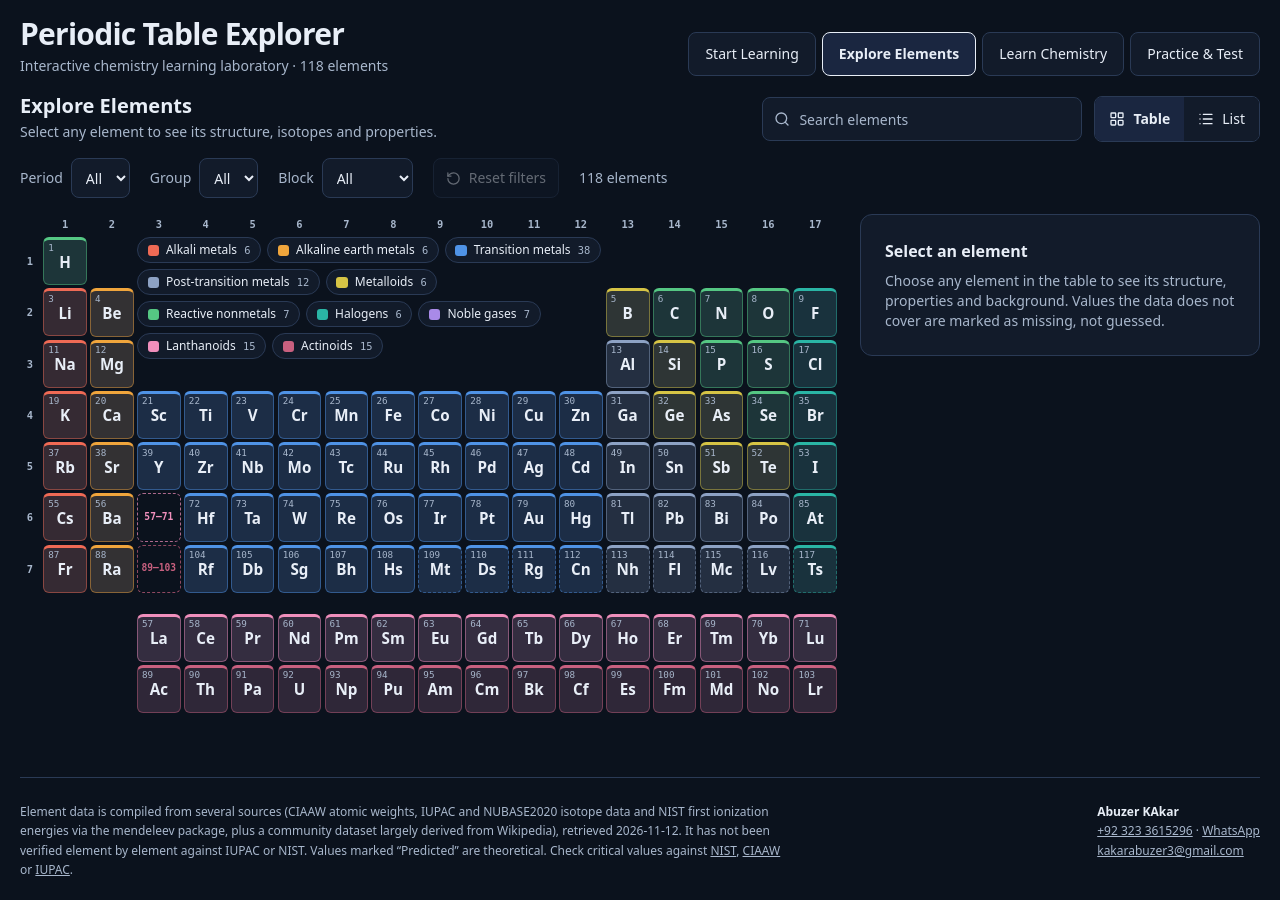
Test: periodic table view › shows details for the clicked element
Check: the heading "Select an element" is shown, box [885,240,1028,262]
Click the button "26 Fe". click: coordinates (393, 415)
box: [371,391,415,439]
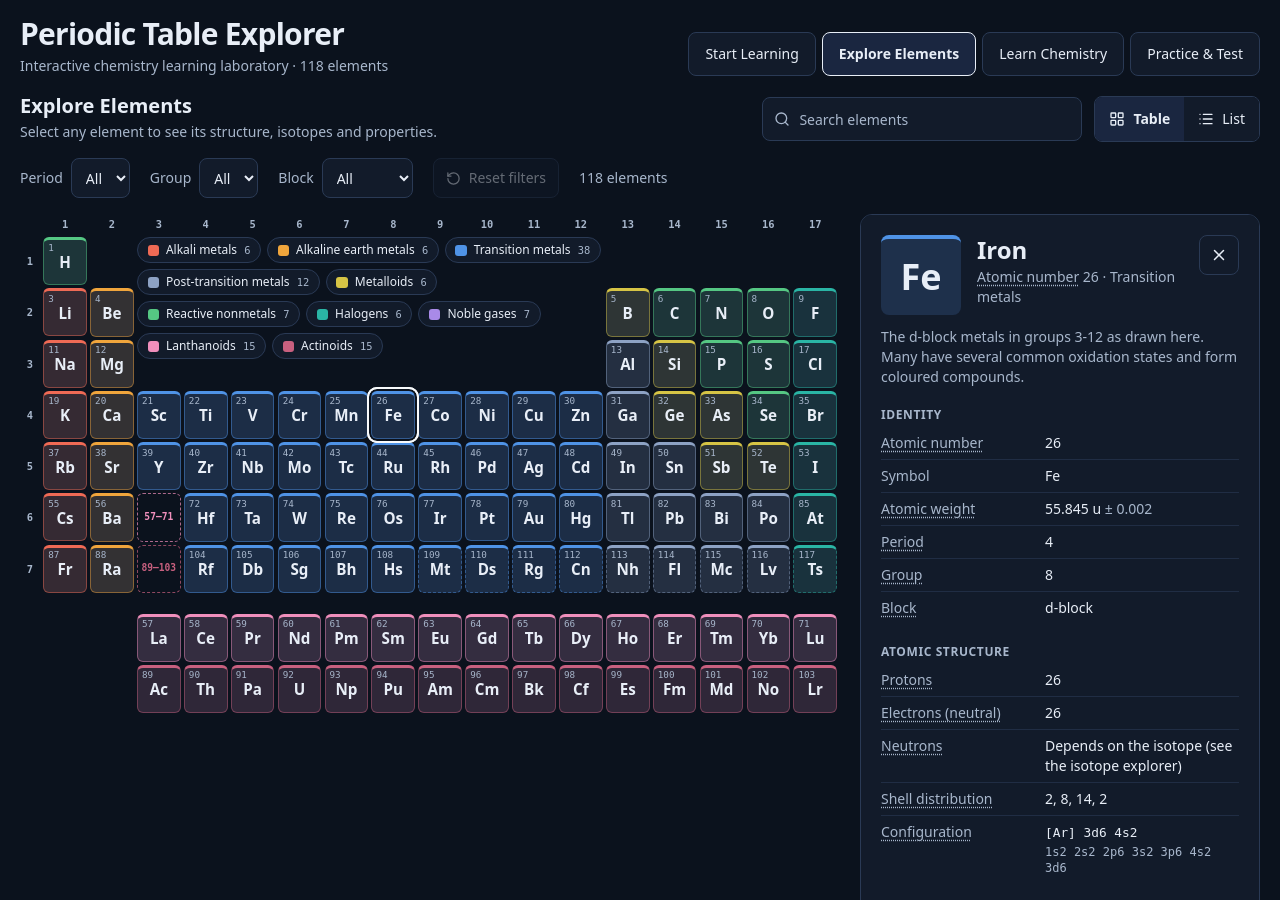
Check: the heading "Iron" is shown, box [977,233,1027,266]
Check: the text "2, 8, 14, 2" is shown, box [1045,789,1107,808]
Check: the text "[Ar] 3d6 4s2" is shown, box [1045,825,1138,840]
Click the button named "Close element details". click: coordinates (1219, 255)
box: [1199,235,1239,275]
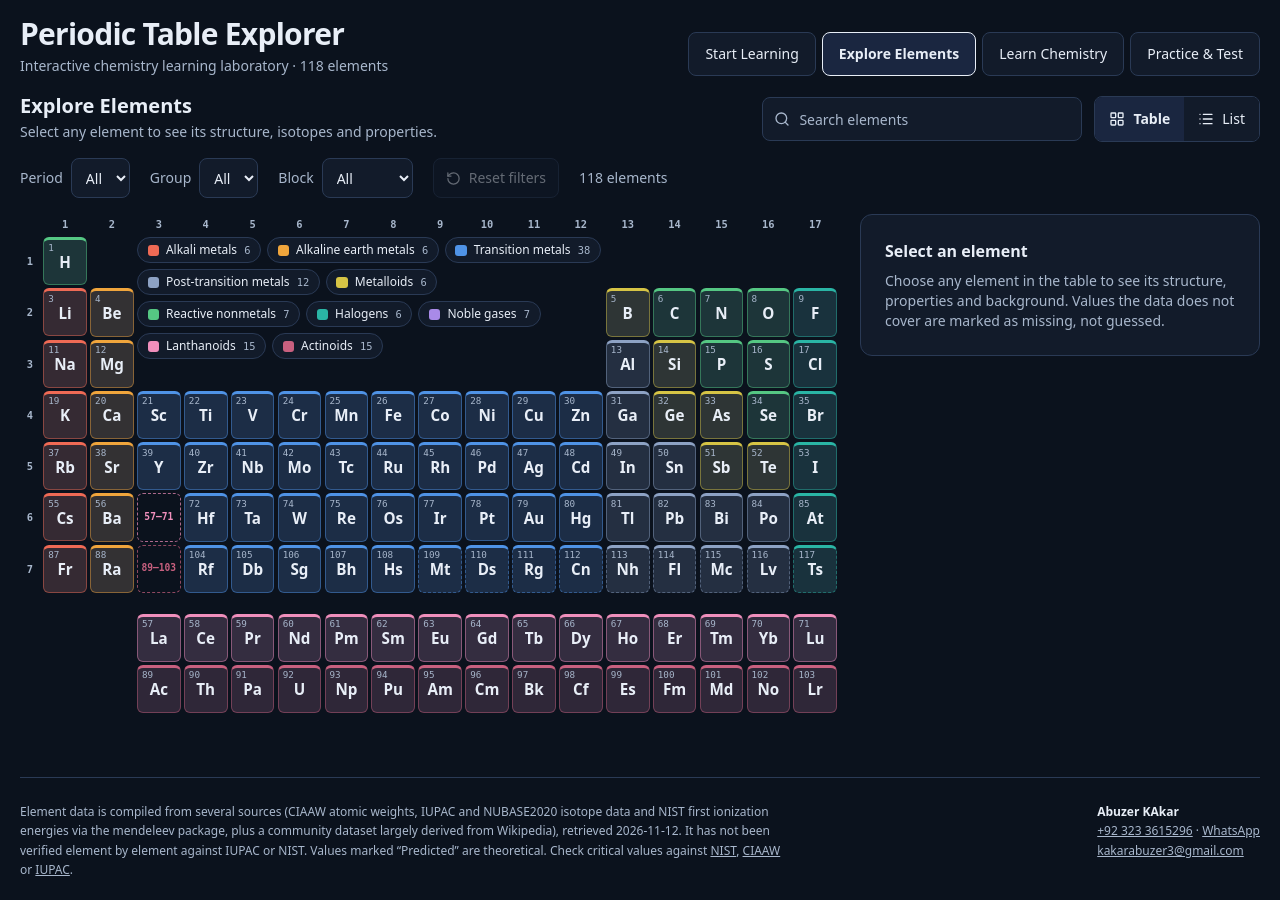
Check: the heading "Select an element" is shown, box [885,240,1028,262]
